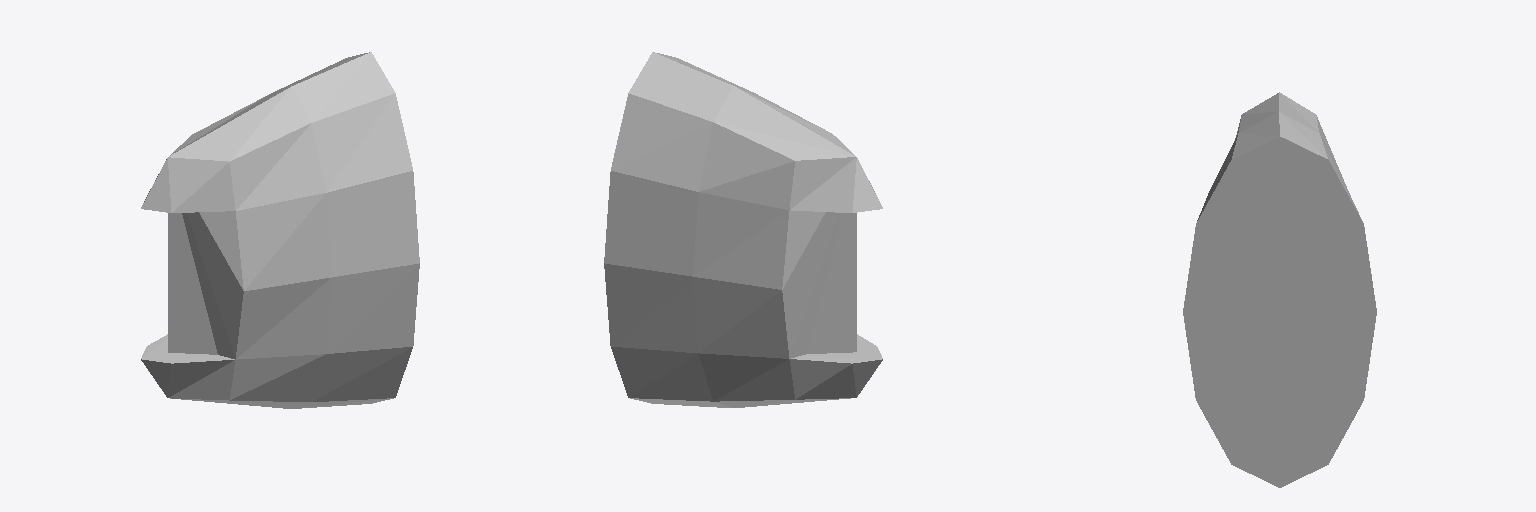
Rendered from head_link2.obj.
3 views of the same model, side by side, from view 1: azimuth 30°, elevation 25°; view 2: azimuth 150°, elevation 25°; view 3: azimuth 270°, elevation 25° (orthographic).
Parts seen in each view (by area): view 1: head_link2_Cylinder.052; view 2: head_link2_Cylinder.052; view 3: head_link2_Cylinder.052.
Boxes of the visible parts, <box> form: head_link2_Cylinder.052: <box>141,52,419,408</box>; head_link2_Cylinder.052: <box>604,52,882,407</box>; head_link2_Cylinder.052: <box>1183,92,1376,487</box>.
Size of the model in its own units: 0.0659 by 0.096 by 0.048.